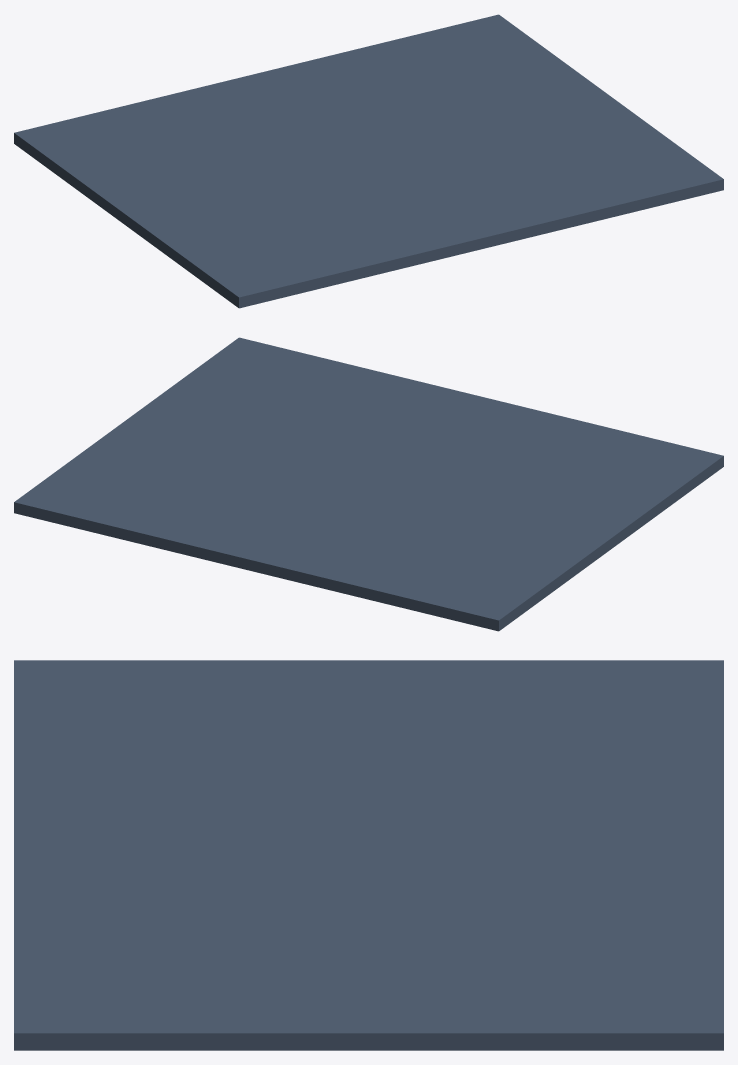
File: floor_008_u_security_dezhurnaya_floor.obj
The picture shows the model from 3 angles, top to bottom: view 1: azimuth 30°, elevation 25°; view 2: azimuth 150°, elevation 25°; view 3: azimuth 270°, elevation 25°; orthographic projection. The views are drawn at different scales.
Visible parts, largest first — view 1: Floor_008_u_security_dezhurnaya_floor; view 2: Floor_008_u_security_dezhurnaya_floor; view 3: Floor_008_u_security_dezhurnaya_floor.
Boxes of the visible parts, x1,y1,x2,y2 form: Floor_008_u_security_dezhurnaya_floor: (14, 14, 723, 308); Floor_008_u_security_dezhurnaya_floor: (14, 337, 723, 631); Floor_008_u_security_dezhurnaya_floor: (14, 660, 723, 1050).
Bounding box in the file's own units: 9.26 × 0.2 × 7.44.
